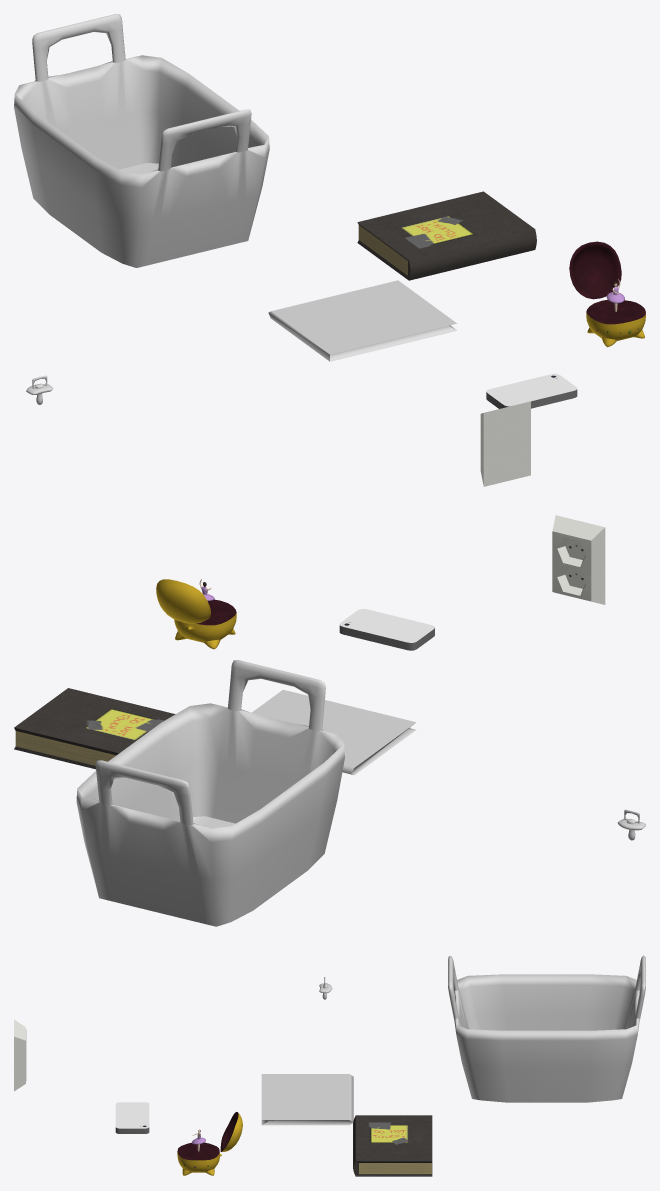
File: tutti.FBX
The picture shows the model from 3 angles, top to bottom: view 1: azimuth 30°, elevation 25°; view 2: azimuth 150°, elevation 25°; view 3: azimuth 270°, elevation 25°; orthographic projection. The views are drawn at different scales.
Visible parts, largest first — view 1: kori, diary, lehti, soittorasia, pistorasia, puhelin; view 2: kori, diary, lehti, pistorasia, soittorasia, puhelin; view 3: kori, diary, lehti, soittorasia, puhelin, pistorasia.
Boxes of the visible parts, x1=… form: kori: x1=14, y1=14, x2=269, y2=267; diary: x1=357, y1=191, x2=536, y2=280; lehti: x1=268, y1=280, x2=456, y2=361; soittorasia: x1=569, y1=241, x2=645, y2=347; pistorasia: x1=480, y1=401, x2=530, y2=486; puhelin: x1=486, y1=373, x2=577, y2=408; kori: x1=76, y1=660, x2=344, y2=926; diary: x1=14, y1=688, x2=175, y2=769; lehti: x1=252, y1=689, x2=416, y2=775; pistorasia: x1=552, y1=515, x2=605, y2=604; soittorasia: x1=156, y1=579, x2=236, y2=649; puhelin: x1=339, y1=609, x2=434, y2=650; kori: x1=448, y1=955, x2=645, y2=1102; diary: x1=353, y1=1115, x2=432, y2=1176; lehti: x1=261, y1=1074, x2=353, y2=1125; soittorasia: x1=177, y1=1112, x2=242, y2=1175; puhelin: x1=115, y1=1102, x2=149, y2=1133; pistorasia: x1=14, y1=1019, x2=26, y2=1091.
Bounding box in the file's own units: 44.07 × 12.97 × 61.43.
